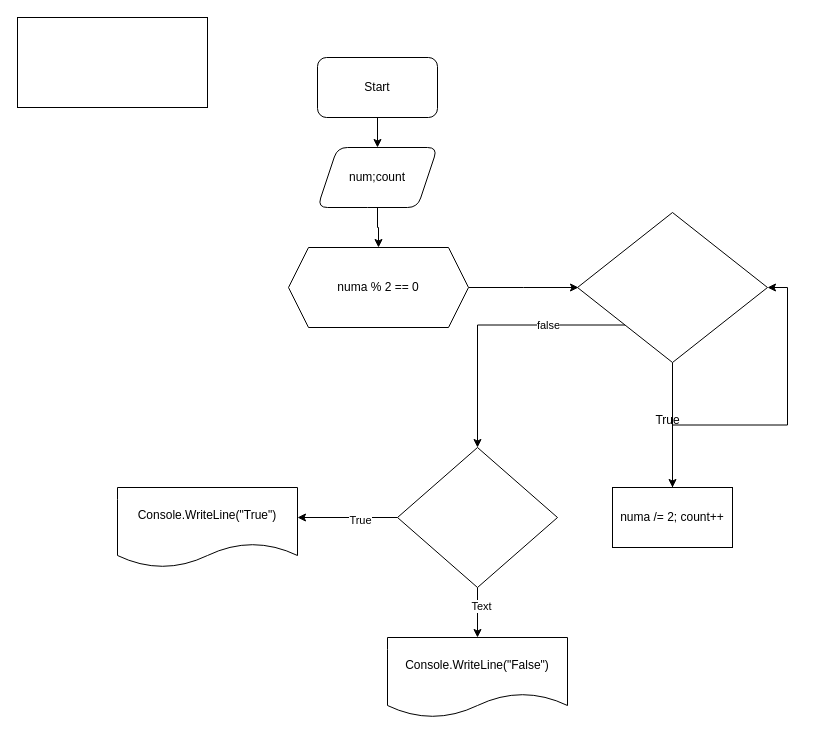
This 813x735 diagram has some shape labels left out. Here are the shapes that lost their labels. From the top down, the centre of each, then its label:
At (112,62): "3 cI tapsiriq".
At (672,287): "numa>=1 && numa %2 ==0".
At (477,517): "count > 1".
